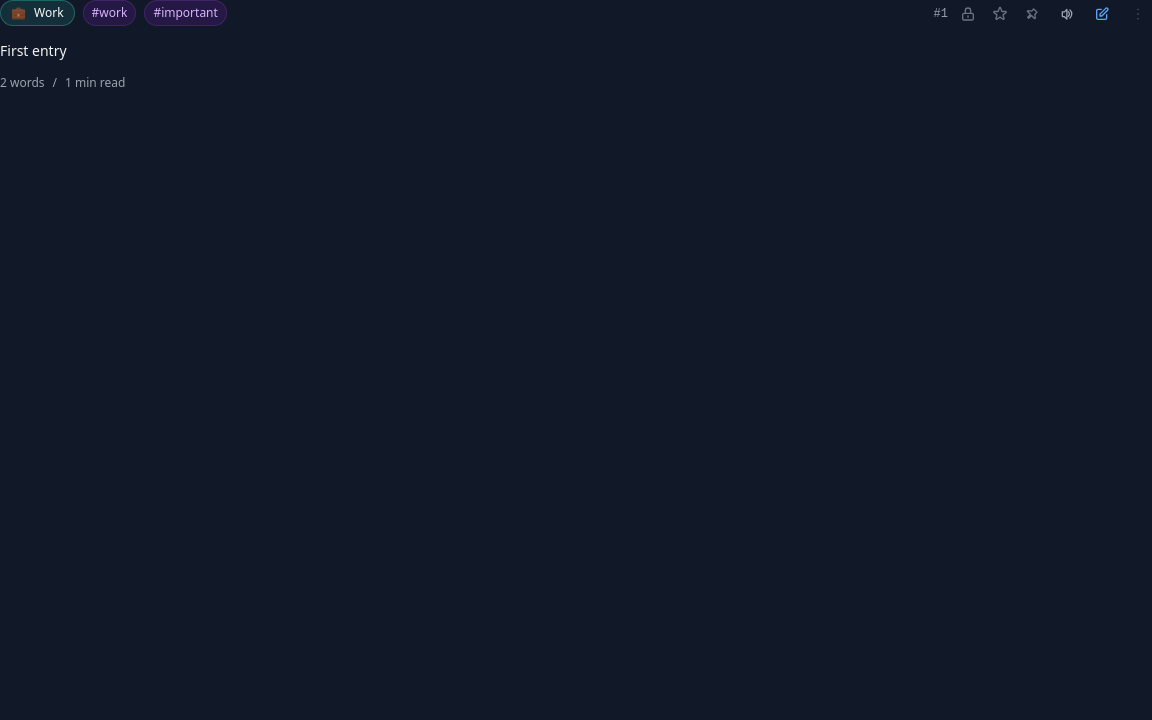
EntryViewMode private share links › names an entry without a title by its day
The width and height of the screenshot is (1152, 720).
Click the button named "More actions" at (1138, 14), box [1124, 0, 1151, 28]
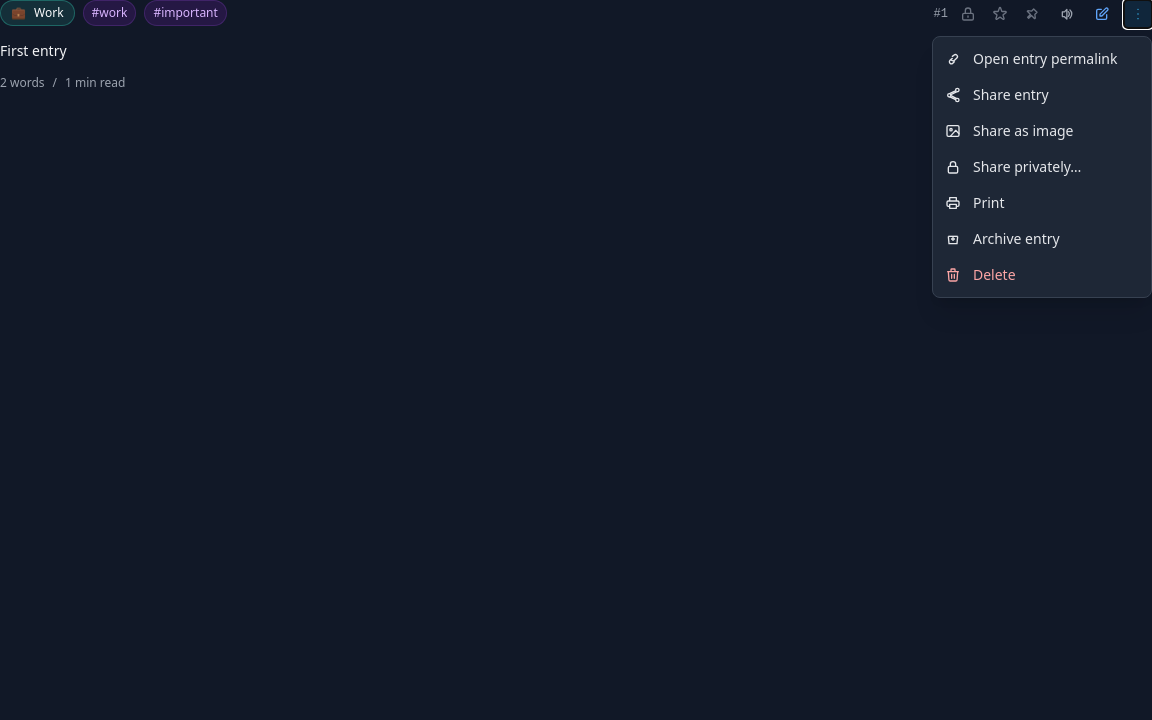
Click the menu item "Share privately…" at (1042, 167), box [933, 149, 1151, 185]
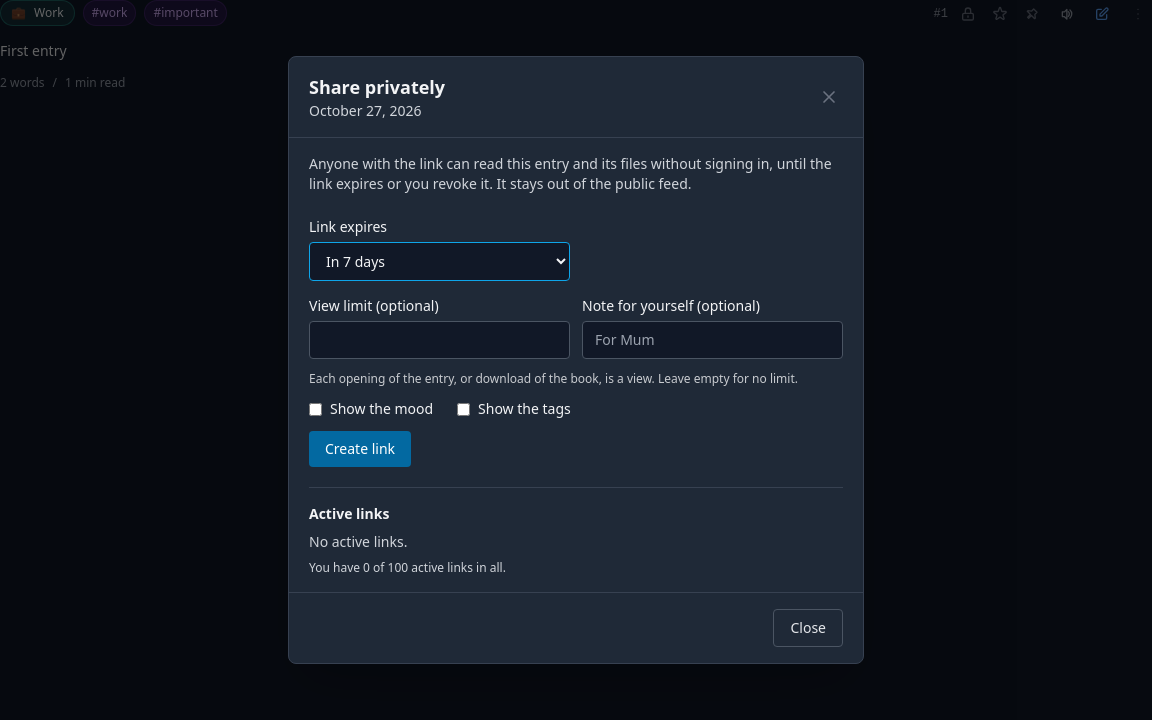
Expected: the dialog shows "October 27, 2026", [309, 101, 422, 120]
